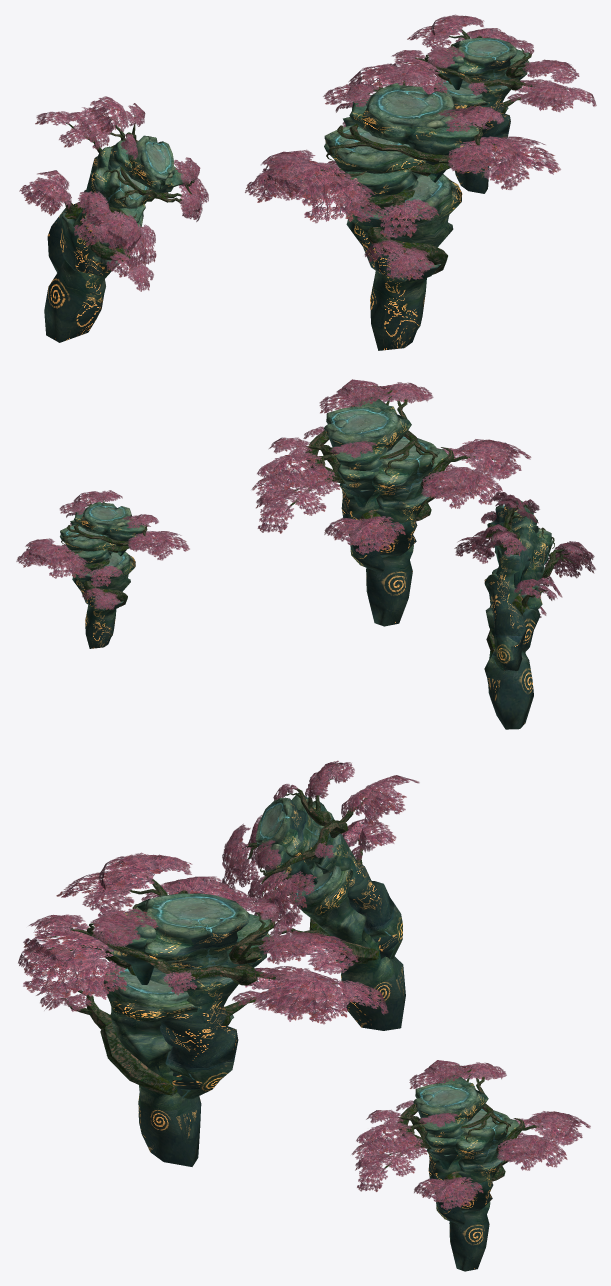
The model's file is all_stone_mountain_02.glb.
The picture shows the model from 3 angles, top to bottom: view 1: azimuth 30°, elevation 25°; view 2: azimuth 150°, elevation 25°; view 3: azimuth 270°, elevation 25°; orthographic projection. The views are drawn at different scales.
Parts seen in each view (by area): view 1: Stone_mountain, Stone_mountain.001, Stone_mountain.002; view 2: Stone_mountain, Stone_mountain.001, Stone_mountain.002; view 3: Stone_mountain, Stone_mountain.001, Stone_mountain.002.
Boxes of the visible parts, bbox=[...] form: Stone_mountain: bbox=[245, 62, 560, 350]; Stone_mountain.001: bbox=[19, 96, 208, 342]; Stone_mountain.002: bbox=[386, 14, 596, 193]; Stone_mountain: bbox=[251, 379, 531, 626]; Stone_mountain.001: bbox=[454, 491, 595, 729]; Stone_mountain.002: bbox=[16, 490, 189, 648]; Stone_mountain: bbox=[18, 852, 388, 1166]; Stone_mountain.001: bbox=[222, 760, 419, 1030]; Stone_mountain.002: bbox=[351, 1060, 590, 1271].
Bounding box in the file's own units: 25.11 × 10.26 × 19.24.
3 materials, 3 textured.
